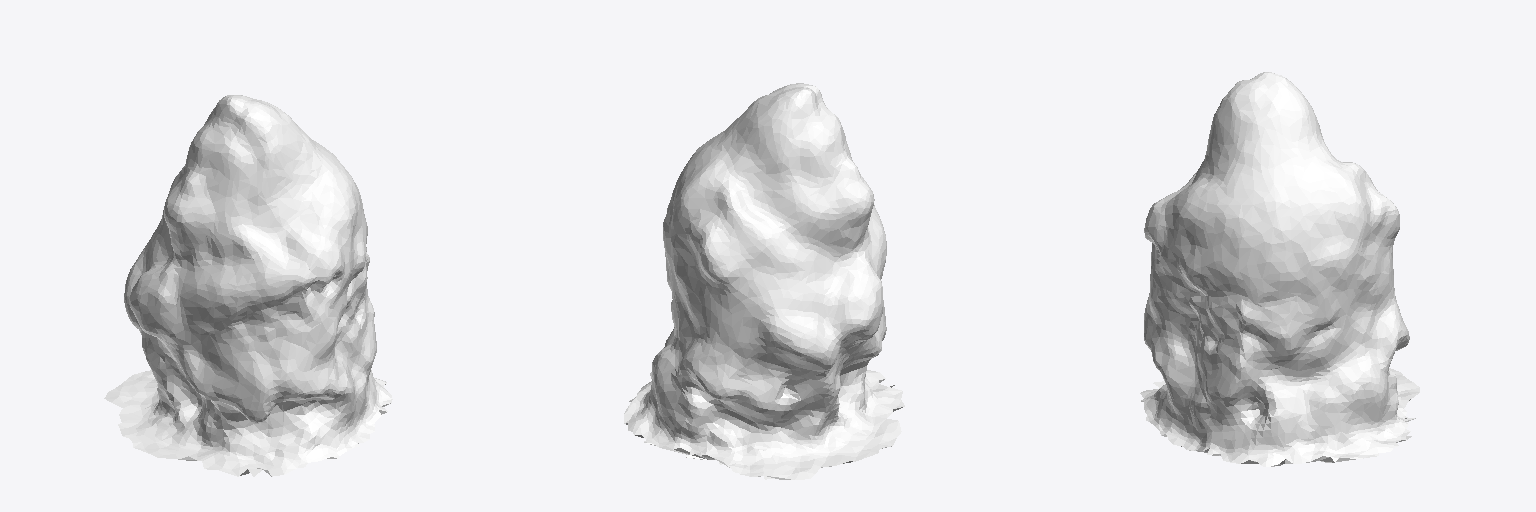
The model's file is monkey.obj.
3 views of the same model, side by side, from view 1: azimuth 30°, elevation 25°; view 2: azimuth 150°, elevation 25°; view 3: azimuth 270°, elevation 25° (orthographic).
Visible parts, largest first — view 1: monkey; view 2: monkey; view 3: monkey.
Part boxes in pixels (bbox=[...]): monkey: bbox=[104, 95, 392, 476]; monkey: bbox=[624, 83, 904, 479]; monkey: bbox=[1140, 72, 1419, 466].
Size of the model in its own units: 5.59 by 7.31 by 5.48.